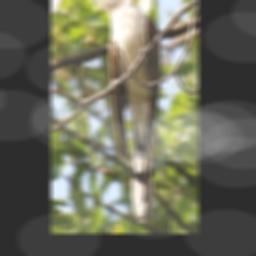Cuckoo: (85, 0, 163, 226)
